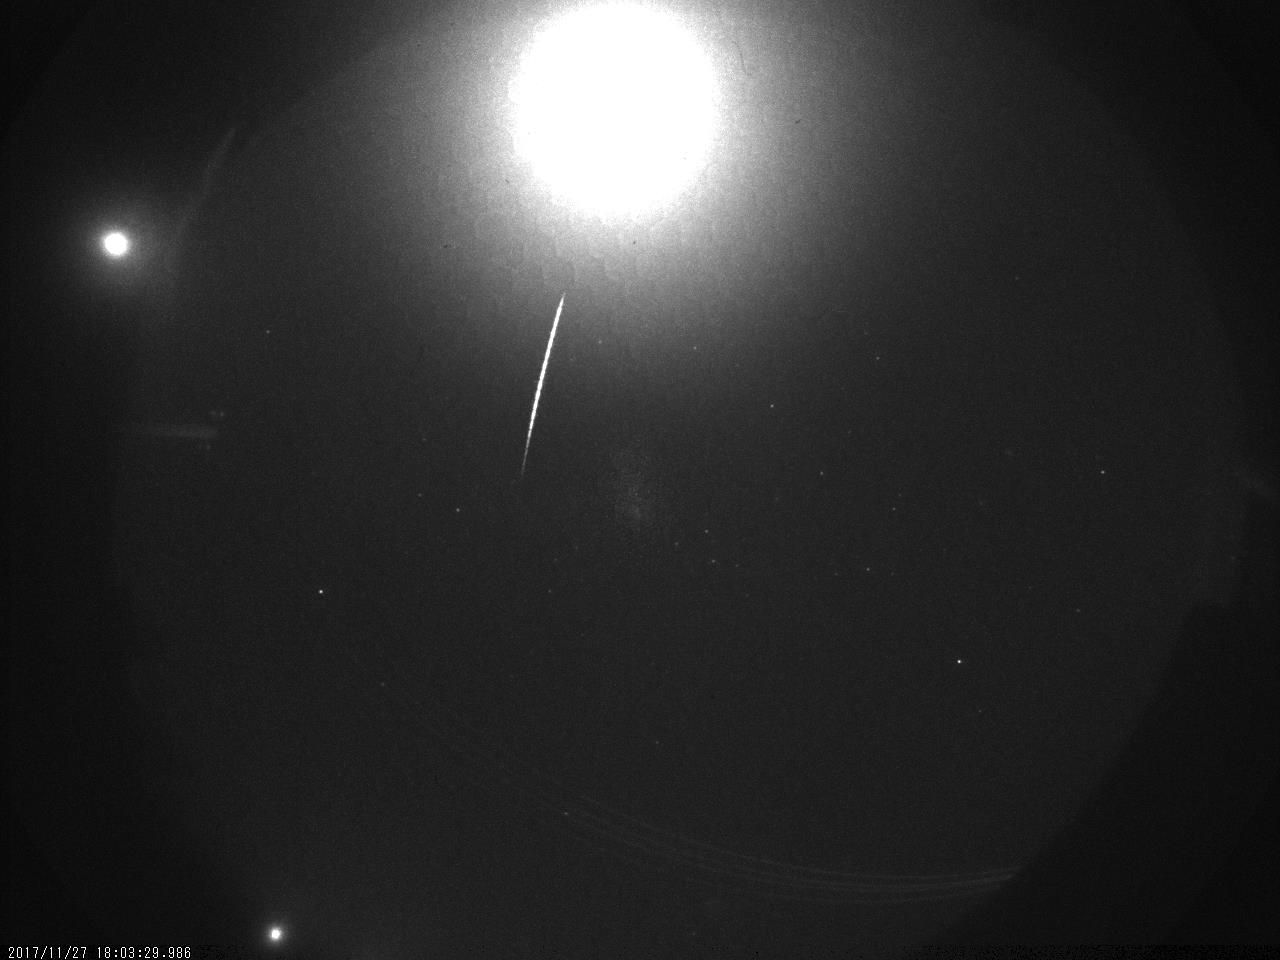meteor: (511, 283, 582, 474)
